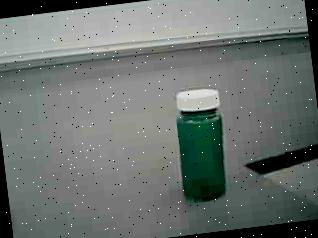Bottle C: (160, 75, 239, 209)
